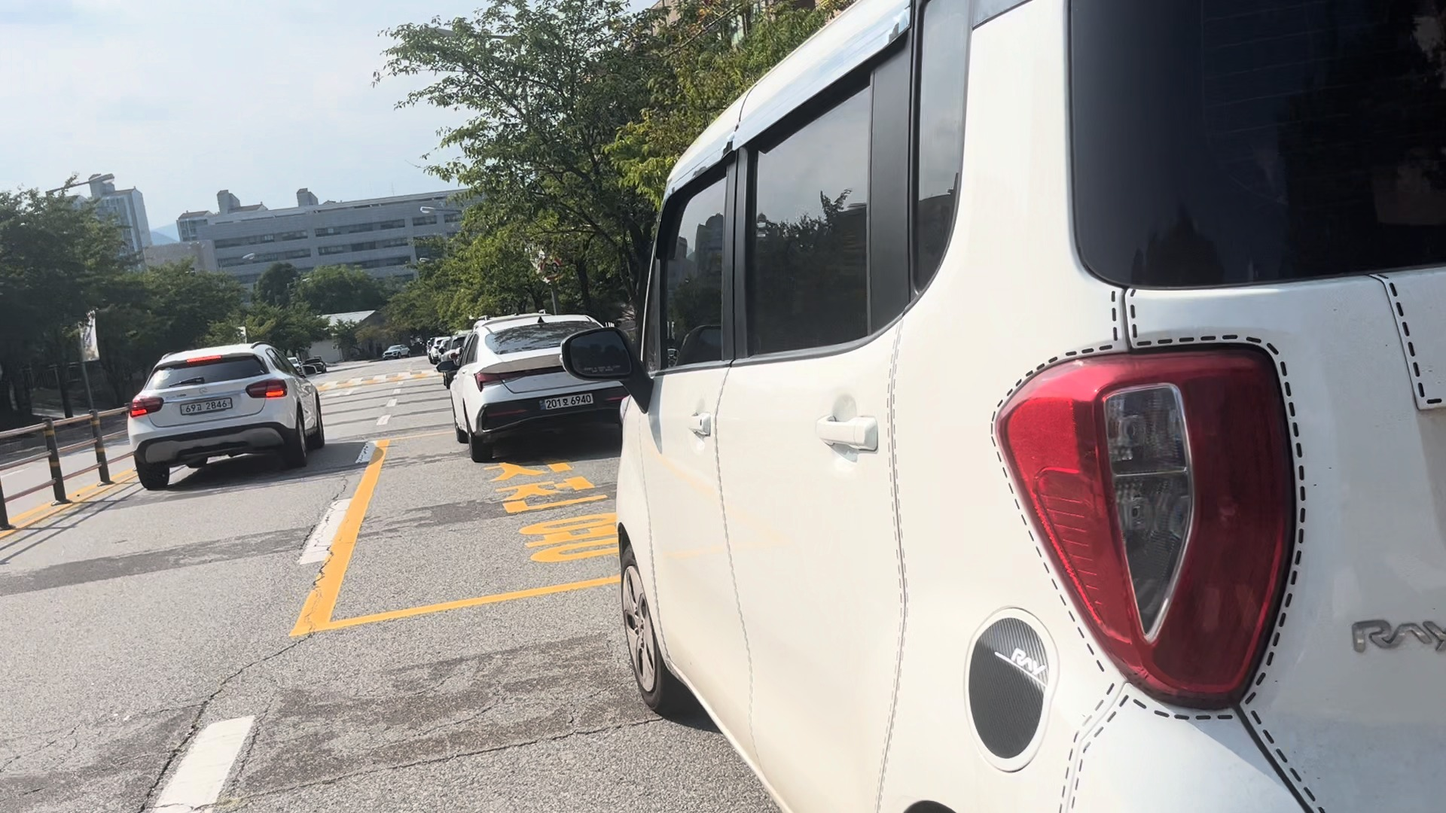door_handle: (816, 416, 877, 451), (688, 413, 712, 436)
license_plate: (541, 393, 593, 410)
side_mirror: (569, 332, 634, 375)
tail_light: (996, 350, 1292, 707), (474, 367, 562, 388), (246, 379, 288, 398), (129, 396, 163, 417)
